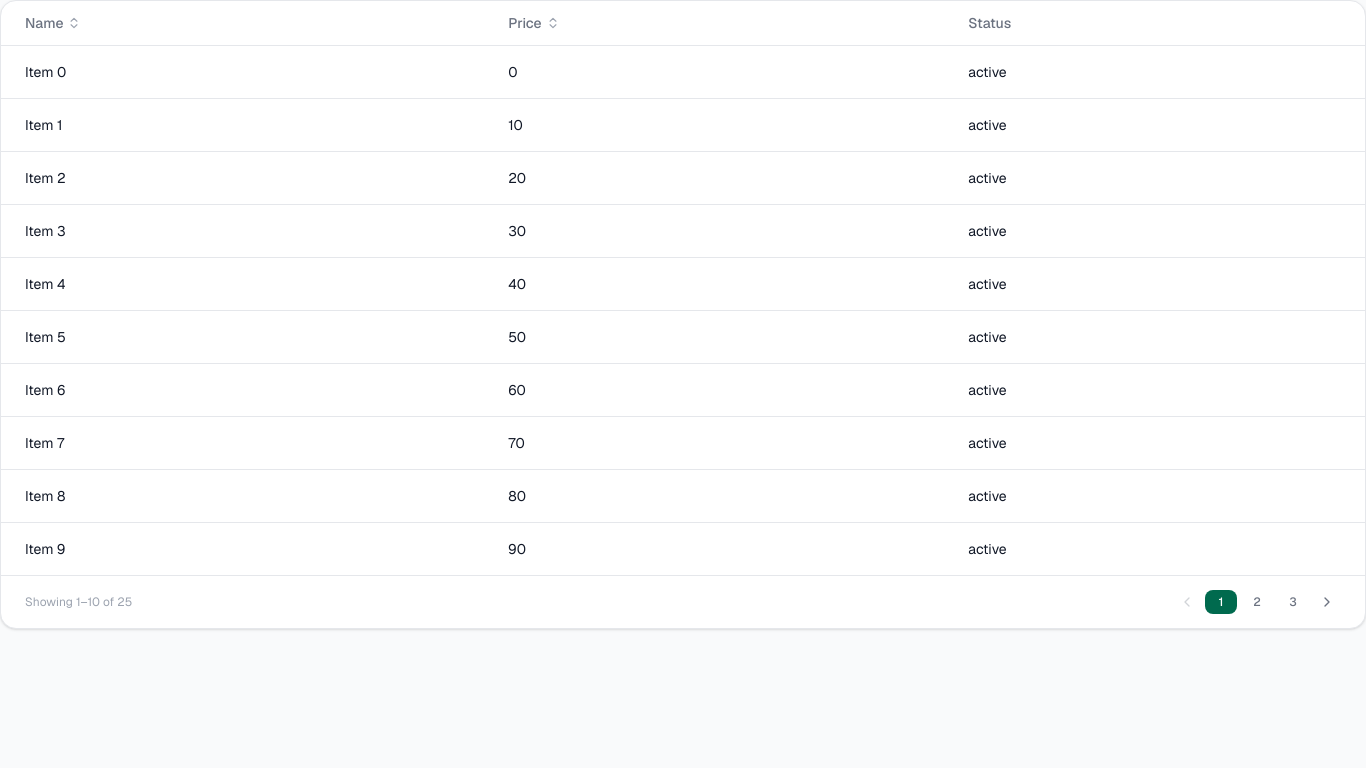
Test: DataTable › page navigation works
This screenshot has width=1366, height=768.
# Go to page 2
Click the button "2" at [1257, 602], box [1241,590,1273,614]
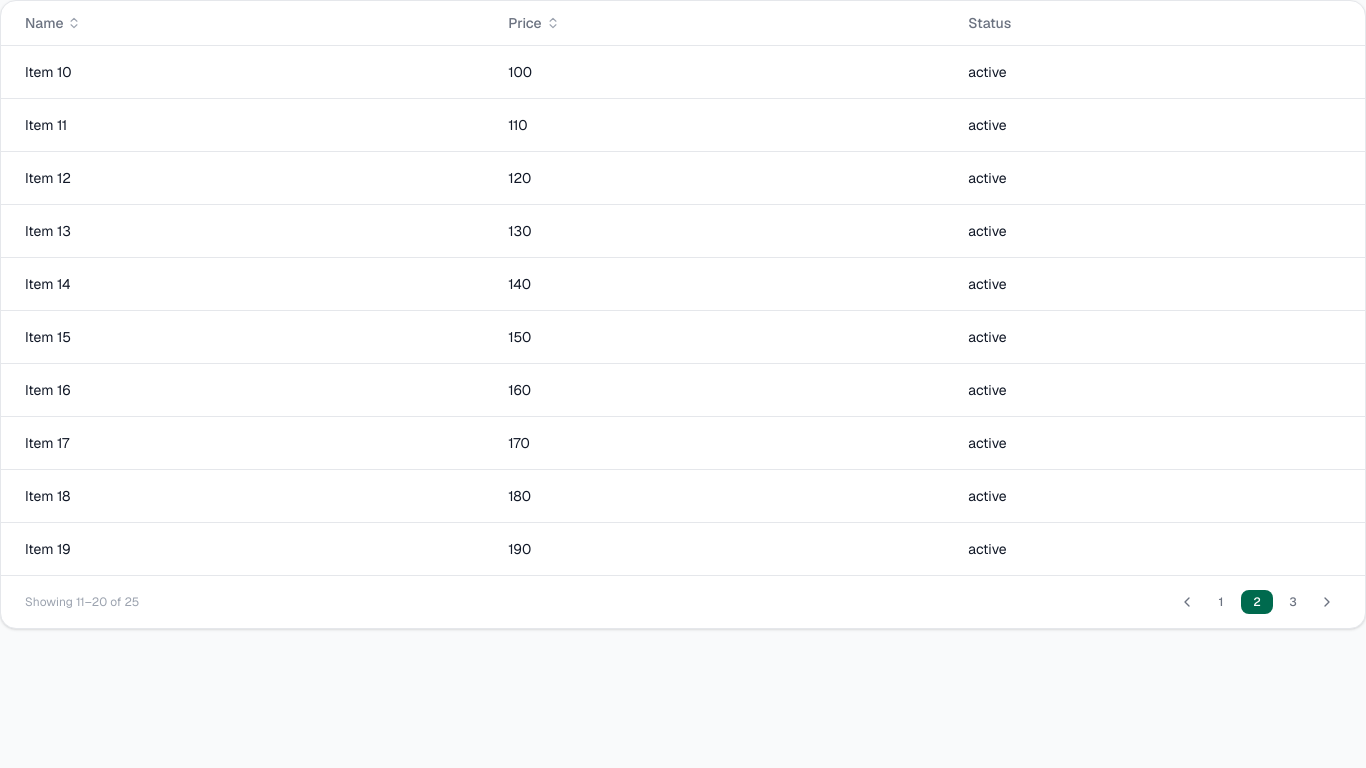
expect the text "Showing 11–20 of 25" is shown: met, box [25,594,139,610]
# Go to page 3
Click the button "3" at [1293, 602], box [1277,590,1309,614]
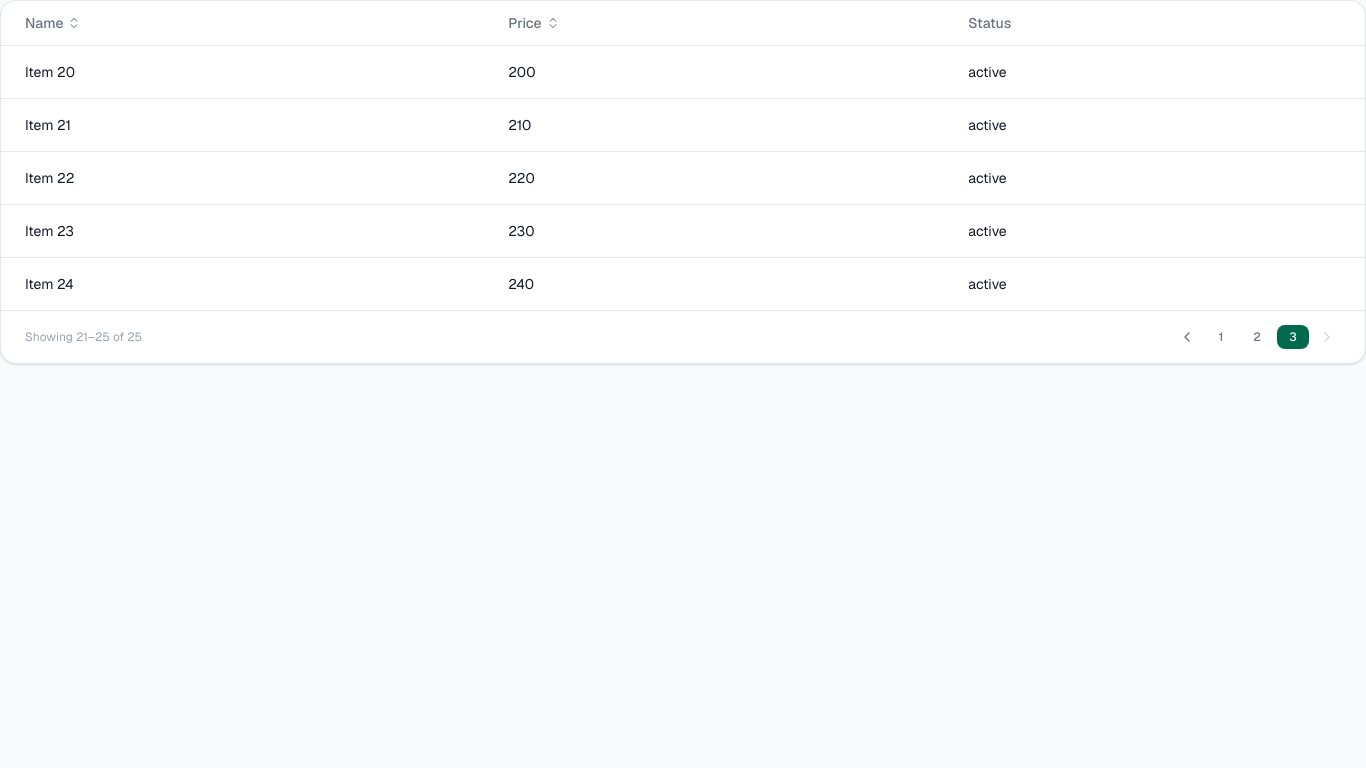
expect the text "Showing 21–25 of 25" is shown: met, box [25,329,142,345]
